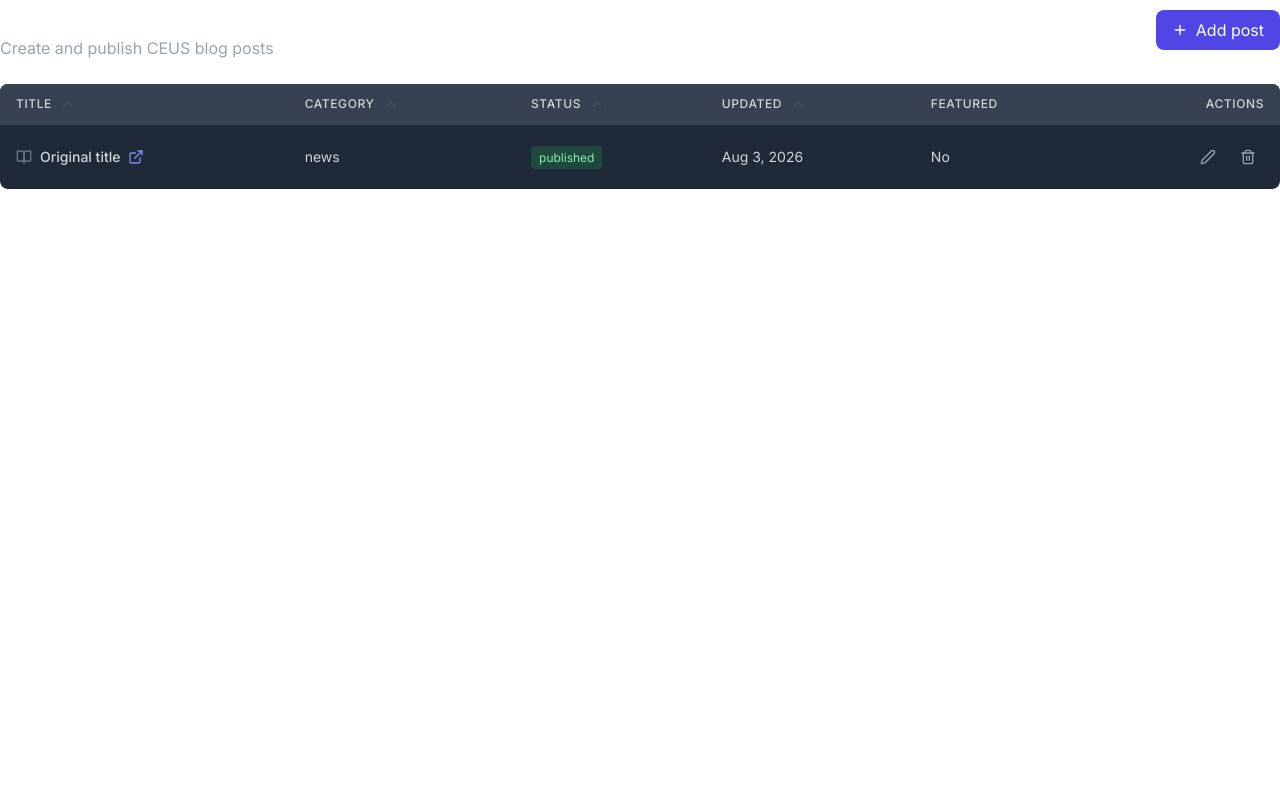
Test: AdminBlogPage › retains delete confirmation and shows the refresh error
Check: the text "Original title" is shown, box 40,147 -> 120,167
What coordinates should you click on to do the following:
click the button titled "Delete"
I would click on:
 (1248, 157)
Its box is 1232,141 -> 1264,173.
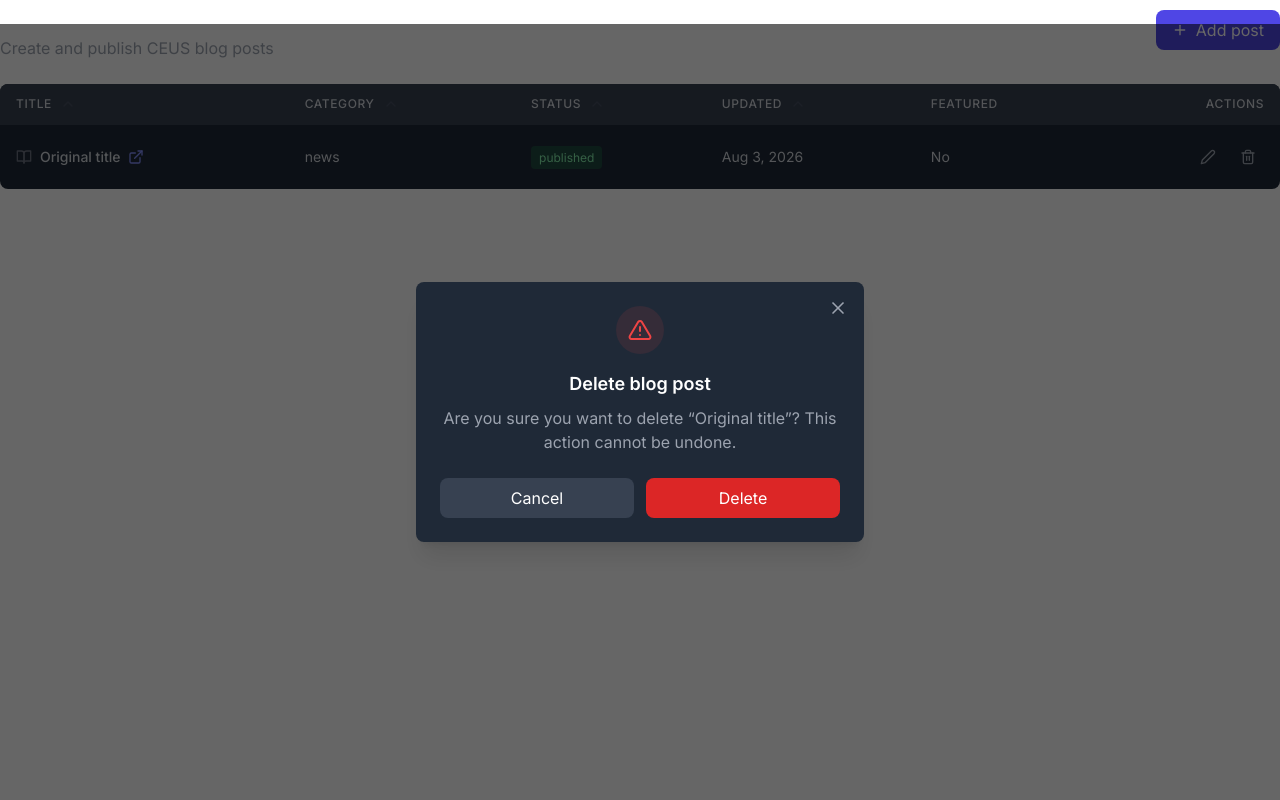
What coordinates should you click on to do the following:
click the button "Delete"
I would click on:
 (743, 498)
Its box is 646,478 -> 840,518.
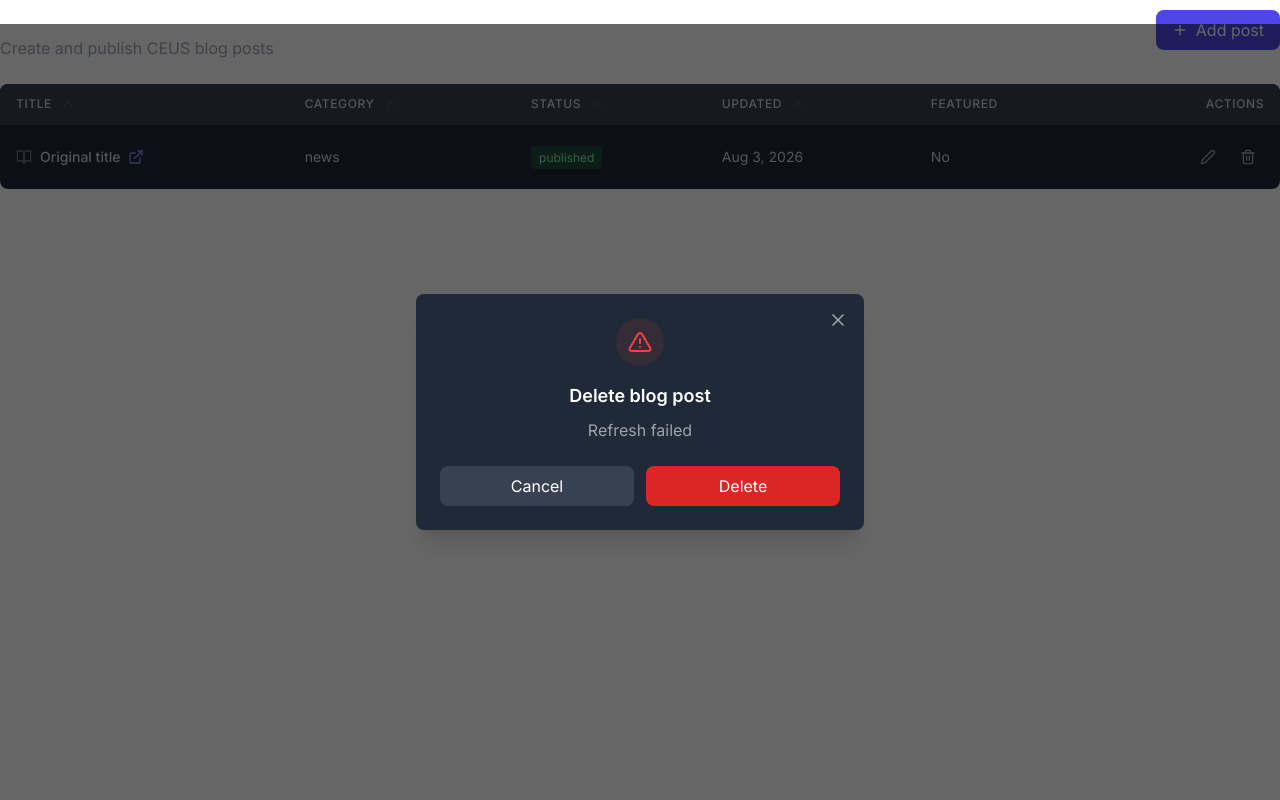
Check: the heading "Delete blog post" is shown, box 569,385 -> 711,406
Check: the text "Refresh failed" is shown, box 588,420 -> 692,440
